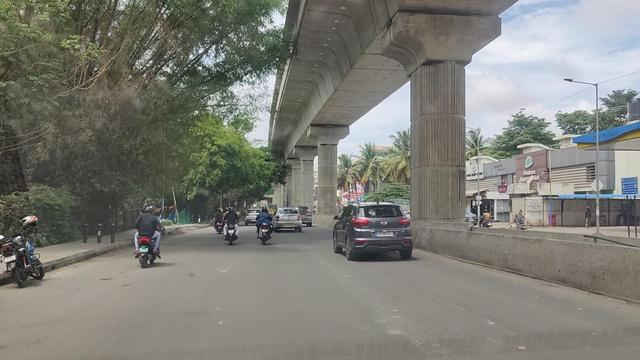LMV: (333, 199, 416, 261), (131, 196, 161, 271), (253, 203, 276, 246), (224, 200, 242, 246)
